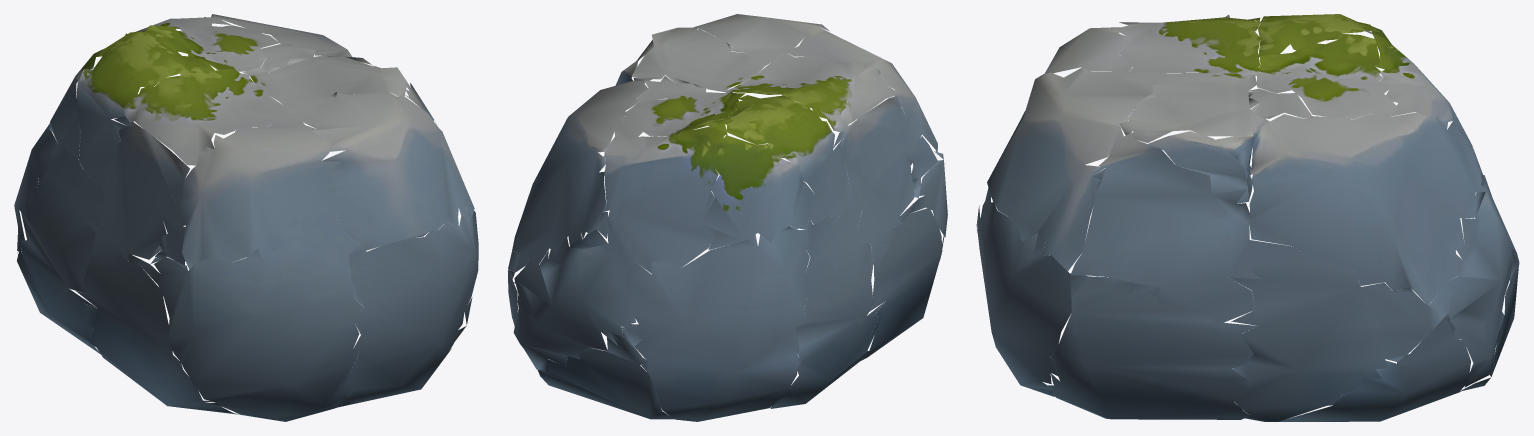
Rendered from boulder-a.glb.
3 renders of one model, left to right at view 1: azimuth 30°, elevation 25°; view 2: azimuth 150°, elevation 25°; view 3: azimuth 270°, elevation 25°, orthographic. The views are drawn at different scales.
Parts seen in each view (by area): view 1: tripo_node_892b9116-36e9-4ff7-b93b-a3da82672bb1; view 2: tripo_node_892b9116-36e9-4ff7-b93b-a3da82672bb1; view 3: tripo_node_892b9116-36e9-4ff7-b93b-a3da82672bb1.
Boxes of the visible parts, x1,y1,x2,y2 form: tripo_node_892b9116-36e9-4ff7-b93b-a3da82672bb1: [14, 14, 478, 421]; tripo_node_892b9116-36e9-4ff7-b93b-a3da82672bb1: [508, 14, 947, 421]; tripo_node_892b9116-36e9-4ff7-b93b-a3da82672bb1: [976, 14, 1519, 421].
Size of the model in its own units: 0.7401 by 0.5981 by 0.9973.
Materials: 1 (1 with a texture image).
